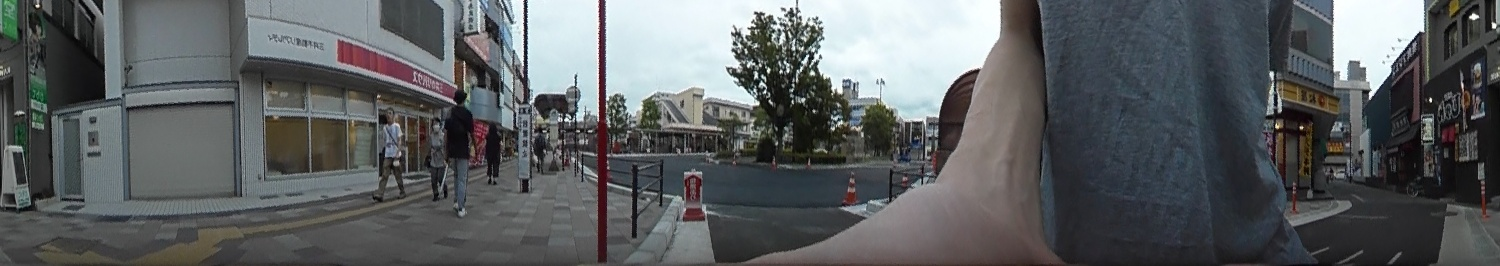person: (446, 84, 474, 217), (367, 105, 405, 200), (426, 114, 449, 201), (479, 118, 505, 182), (532, 125, 547, 174)
